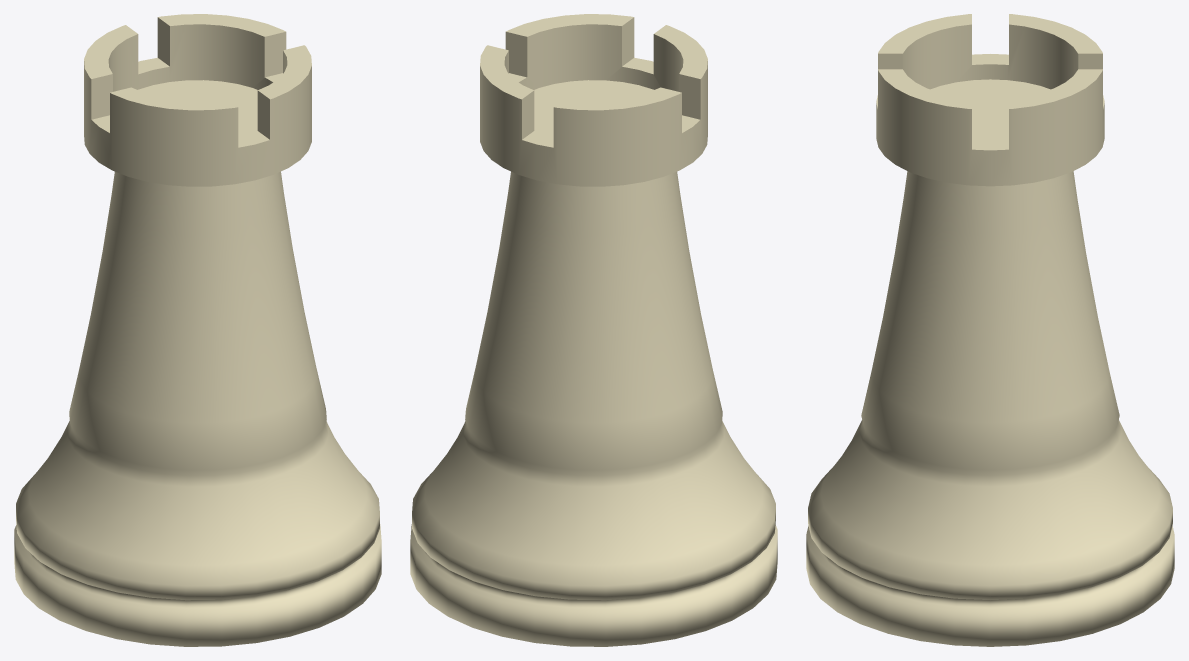
File: rook.glb
3 views of the same model, side by side, from view 1: azimuth 30°, elevation 25°; view 2: azimuth 150°, elevation 25°; view 3: azimuth 270°, elevation 25° (orthographic).
Size of the model in its own units: 1.25 by 1.9 by 1.25.
